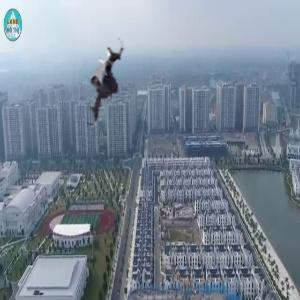drone: (61, 38, 153, 130)
